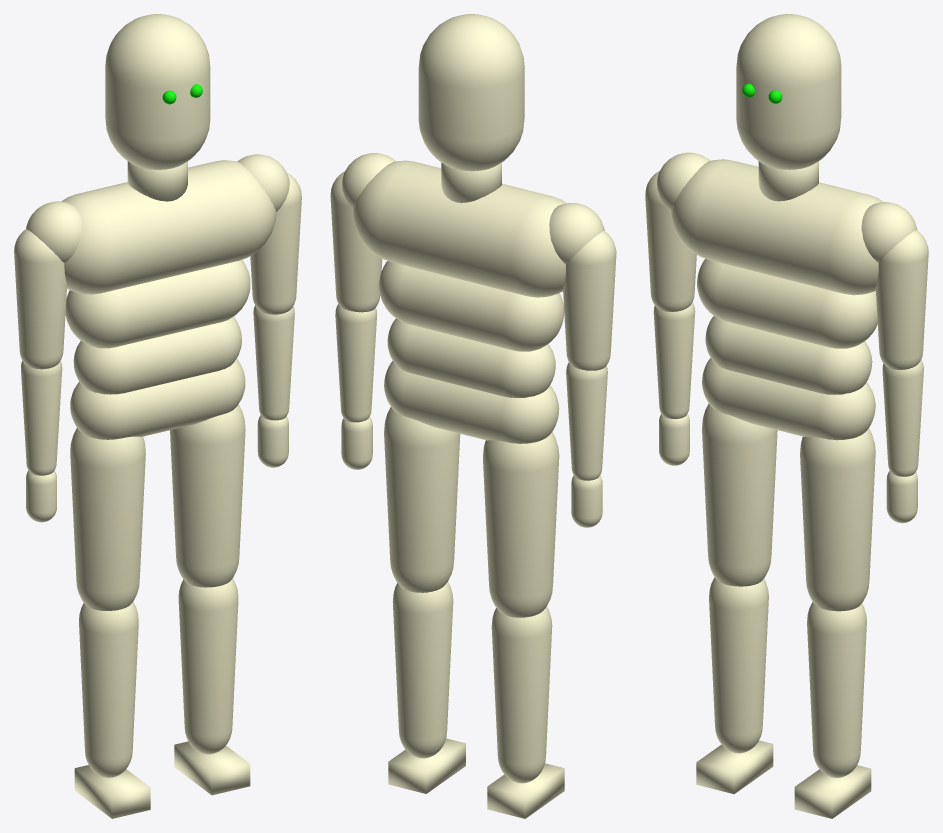
Rendered from Robot1.glb.
The picture shows the model from 3 angles, left to right: view 1: azimuth 30°, elevation 25°; view 2: azimuth 150°, elevation 25°; view 3: azimuth 330°, elevation 25°; orthographic projection.
Parts seen in each view (by area): view 1: Chest, Head, UpperLeftLeg, UpperRightLeg, Torso, LowerRightLeg, LowerLeftLeg, Hips, stomach, UpperLeftArm, UpperRightArm, LowerLeftArm (+8 smaller); view 2: Chest, Head, UpperLeftLeg, UpperRightLeg, Torso, LowerRightLeg, LowerLeftLeg, Hips, stomach, UpperLeftArm, UpperRightArm, LowerRightArm (+8 smaller); view 3: Chest, Head, UpperRightLeg, UpperLeftLeg, Torso, LowerRightLeg, LowerLeftLeg, Hips, stomach, UpperRightArm, UpperLeftArm, LowerLeftArm (+8 smaller).
Part boxes in pixels (x1,y1,x2,y2): Chest: [61, 160, 276, 294]; Head: [105, 14, 210, 169]; UpperLeftLeg: [70, 428, 145, 610]; UpperRightLeg: [170, 404, 245, 587]; Torso: [65, 260, 250, 348]; LowerRightLeg: [178, 578, 238, 754]; LowerLeftLeg: [79, 602, 138, 777]; Hips: [70, 358, 245, 439]; stomach: [73, 316, 241, 394]; UpperLeftArm: [14, 229, 66, 369]; UpperRightArm: [250, 173, 301, 314]; LowerLeftArm: [21, 360, 62, 475]; Chest: [353, 160, 566, 297]; Head: [418, 14, 524, 171]; UpperLeftLeg: [483, 432, 559, 617]; UpperRightLeg: [384, 407, 460, 592]; Torso: [379, 261, 564, 351]; LowerRightLeg: [392, 582, 453, 758]; LowerLeftLeg: [491, 606, 552, 783]; Hips: [384, 361, 559, 443]; stomach: [387, 318, 555, 397]; UpperLeftArm: [563, 231, 616, 370]; UpperRightArm: [330, 171, 382, 312]; LowerRightArm: [335, 304, 377, 422]; Chest: [671, 159, 883, 295]; Head: [736, 14, 841, 169]; UpperRightLeg: [800, 428, 875, 611]; UpperLeftLeg: [702, 403, 777, 586]; Torso: [697, 259, 877, 348]; LowerRightLeg: [807, 602, 866, 777]; LowerLeftLeg: [709, 577, 768, 753]; Hips: [702, 358, 875, 440]; stomach: [705, 316, 872, 394]; UpperRightArm: [875, 230, 928, 369]; UpperLeftArm: [645, 171, 696, 311]; LowerLeftArm: [653, 302, 695, 418].
Bounding box in the file's own units: 1.69 × 4.44 × 0.5832.
2 materials, 2 textured.
